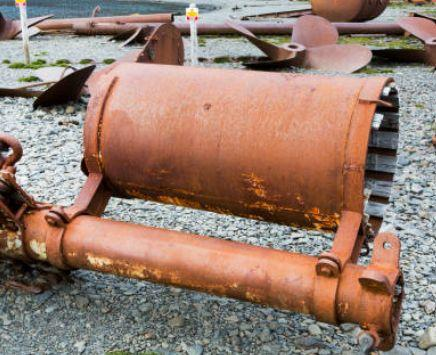metal: (0, 179, 405, 352), (76, 69, 407, 223)
